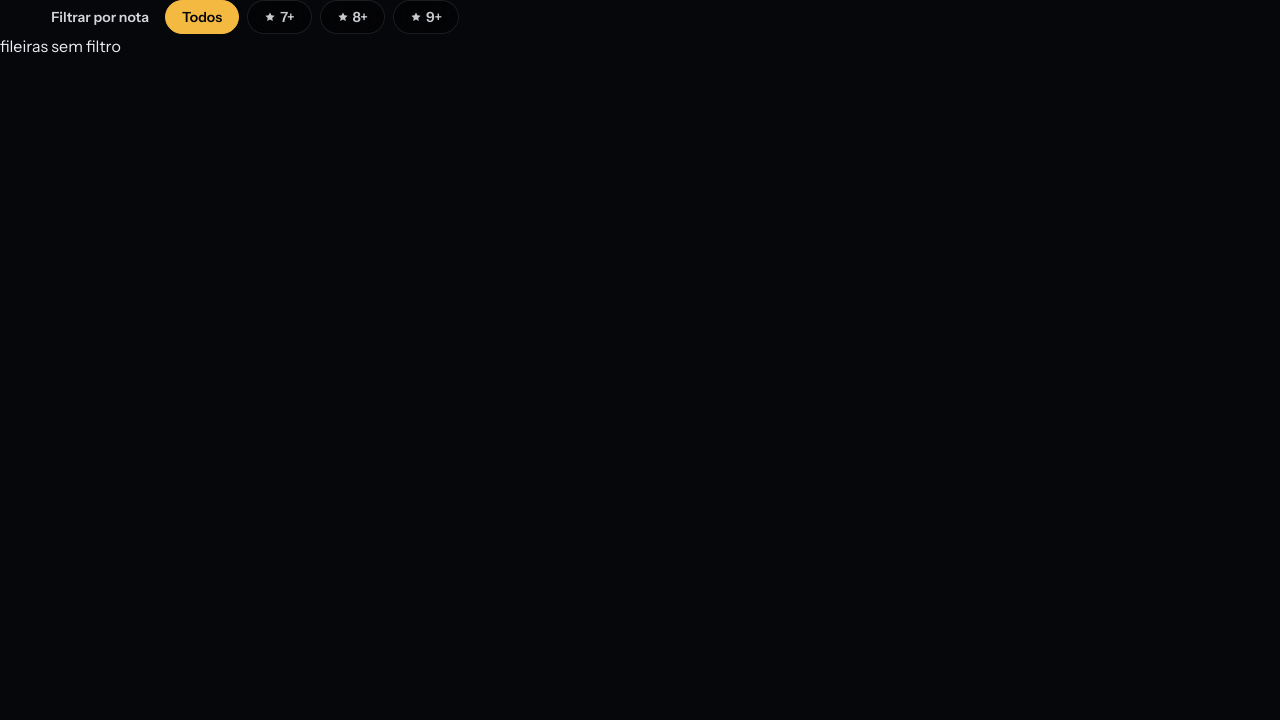
Test: HomeGenreRows › resposta atrasada de uma nota anterior não aparece por cima da nova
What coordinates should you click on to do the following:
click the button "7+"
I would click on:
 (279, 17)
Its box is [247,0,312,34].
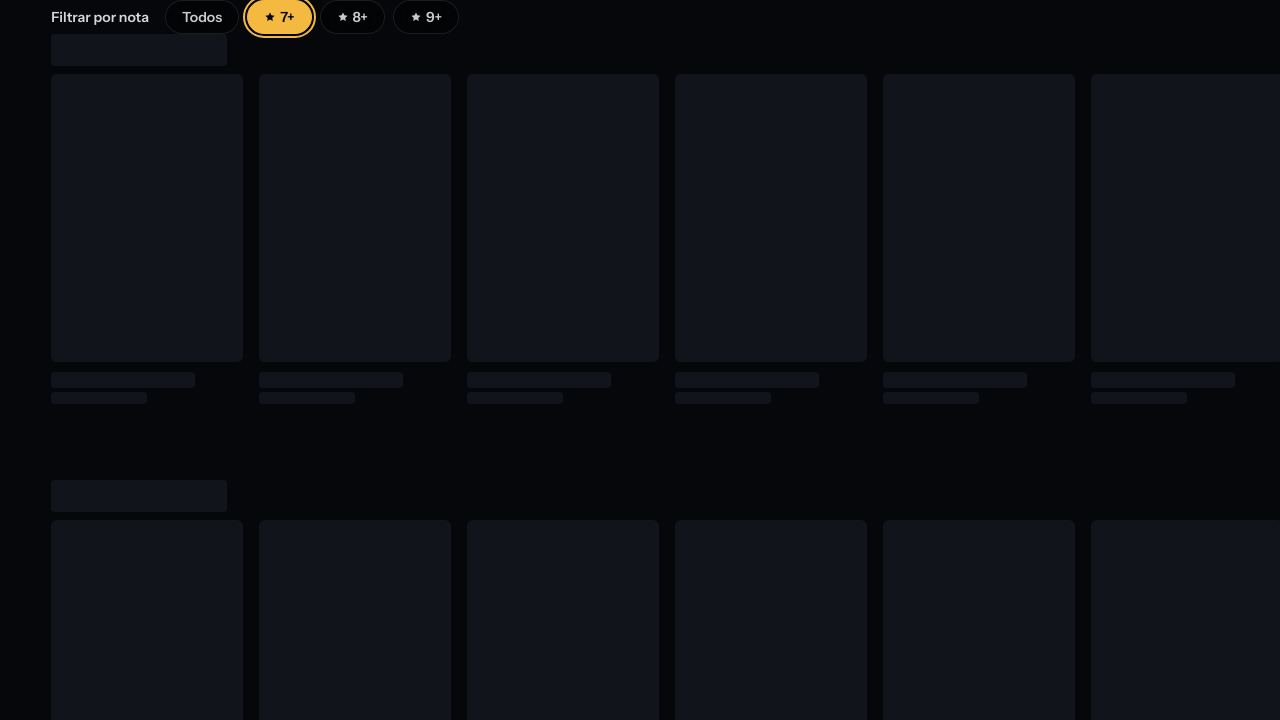
What coordinates should you click on to do the following:
click the button "9+"
I would click on:
 (426, 17)
Its box is [393,0,459,34].
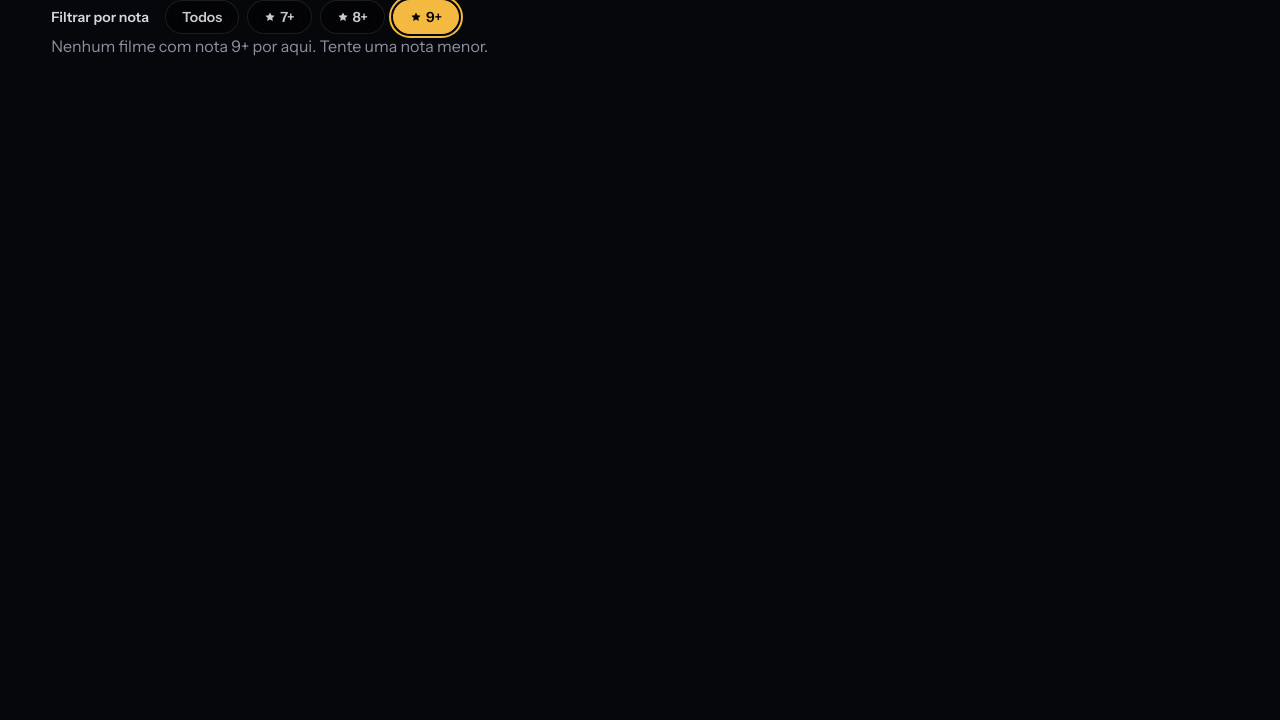
Check: the text "Nenhum filme com nota 9+ por aqui. Tente uma nota menor." is shown, box [51,36,488,56]
